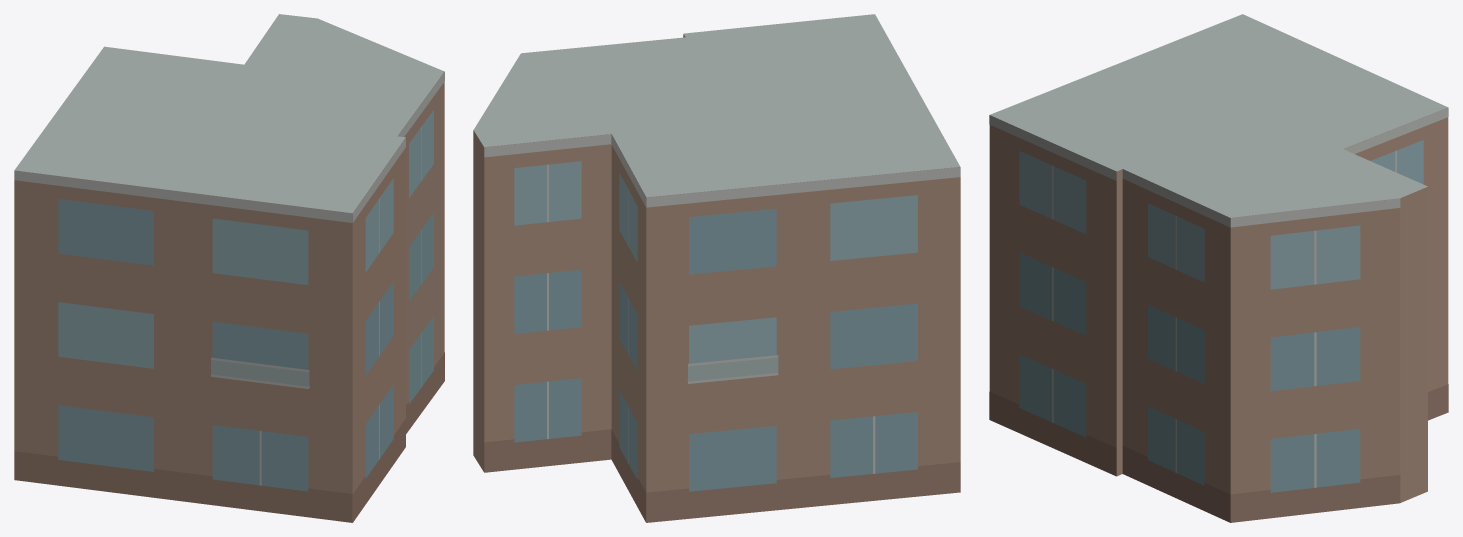
The model's file is survey-upis-32955267.glb.
3 renders of one model, left to right at view 1: azimuth 30°, elevation 25°; view 2: azimuth 150°, elevation 25°; view 3: azimuth 270°, elevation 25°, orthographic. The views are drawn at different scales.
Parts seen in each view (by area): view 1: survey-upis-32955267.tmp; view 2: survey-upis-32955267.tmp; view 3: survey-upis-32955267.tmp.
Boxes of the visible parts, x1,y1,x2,y2 form: survey-upis-32955267.tmp: (14,14,444,522); survey-upis-32955267.tmp: (473,14,960,522); survey-upis-32955267.tmp: (989,14,1448,522).
Size of the model in its own units: 11.12 by 7.75 by 10.58.
